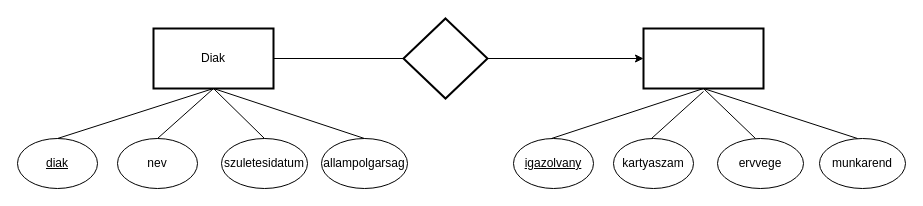
Image size: 923x206. Some labels were removed from this diagram. The shapes that lost their labels are listed below. From the top down, each one's centre as x and y in pixels, then its label:
the point at 445,58: K_A
the point at 703,58: Diakigazolvany
